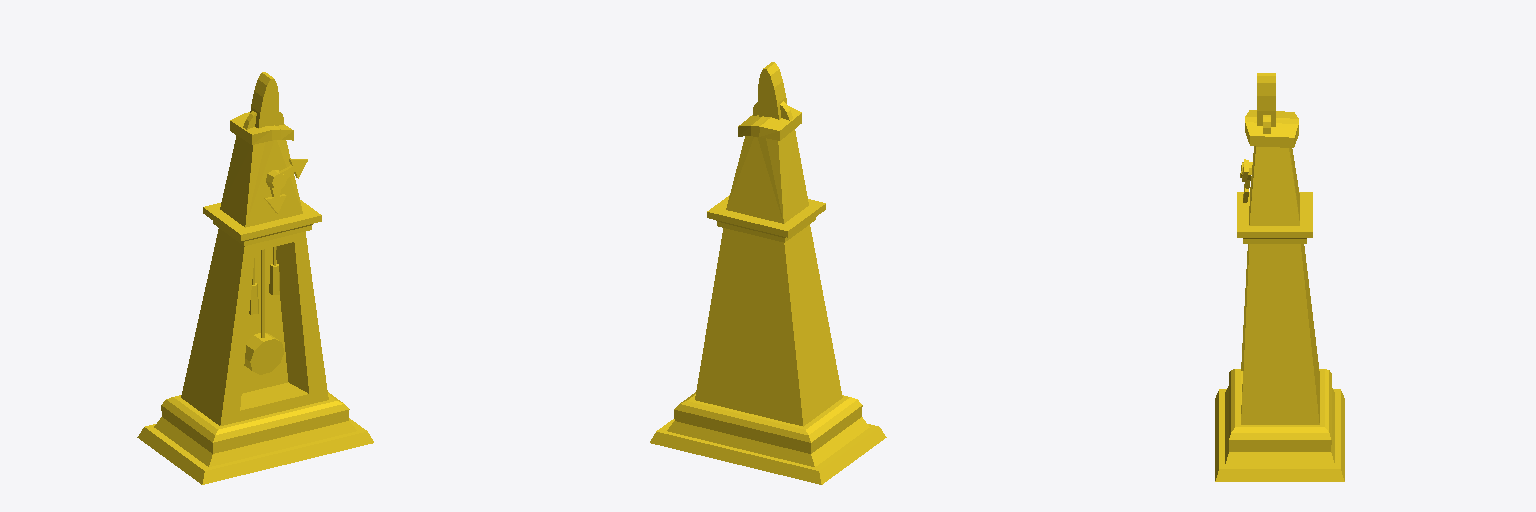
The model's file is GranfatherClock.obj.
The picture shows the model from 3 angles: view 1: azimuth 30°, elevation 25°; view 2: azimuth 150°, elevation 25°; view 3: azimuth 270°, elevation 25°; orthographic projection.
Parts seen in each view (by area): view 1: GranfatherClock; view 2: GranfatherClock; view 3: GranfatherClock.
Part boxes in pixels (x1,y1,x2,y2): GranfatherClock: (137,72,373,484); GranfatherClock: (650,62,886,484); GranfatherClock: (1215,73,1344,481).
Size of the model in its own units: 118 by 242 by 77.15.